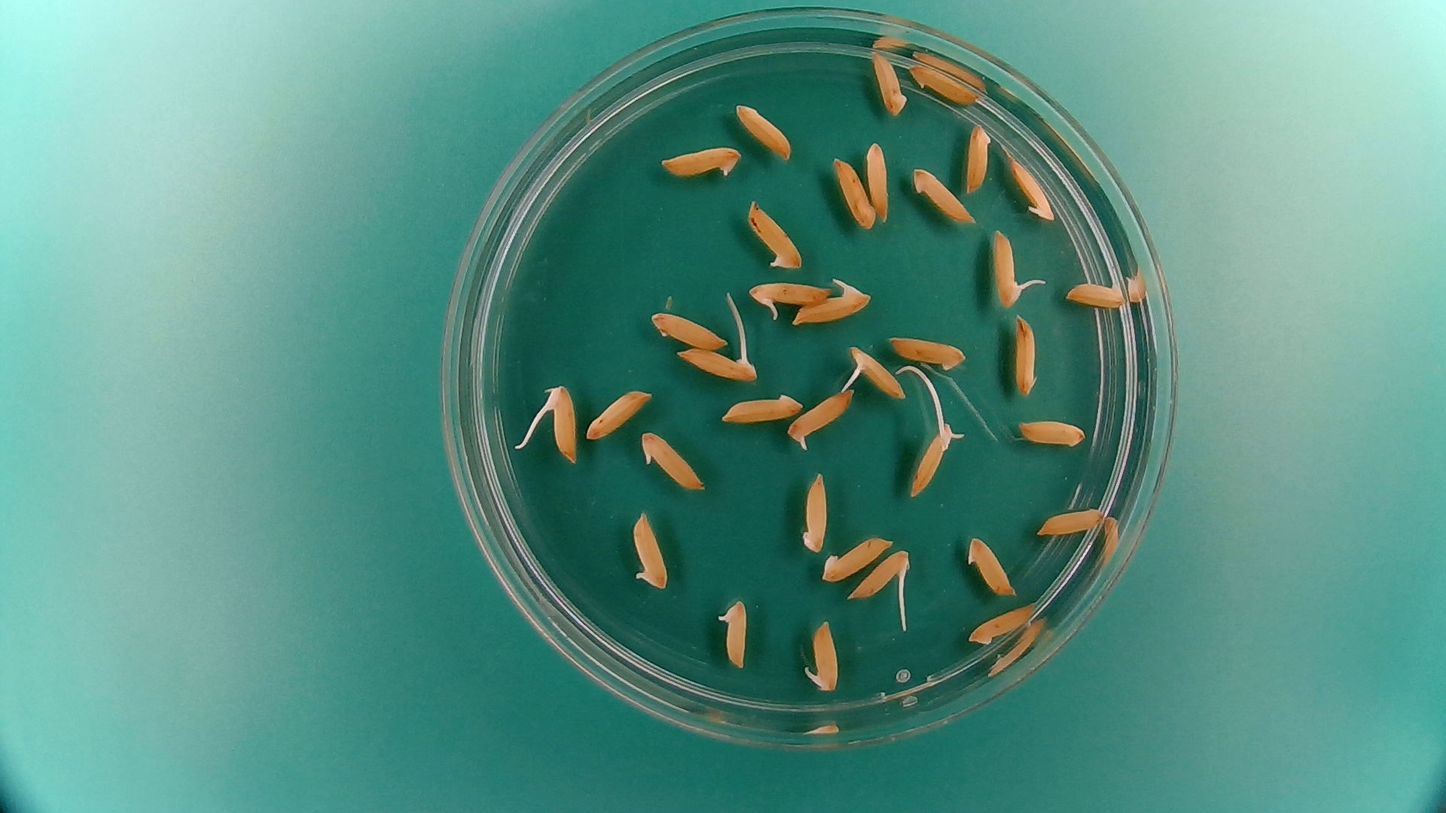no: (744, 196, 804, 273), (909, 163, 978, 227), (819, 530, 898, 583), (647, 307, 731, 352), (733, 100, 796, 160), (584, 386, 654, 440), (883, 330, 970, 373), (629, 505, 672, 589), (656, 140, 744, 181), (964, 532, 1017, 598), (831, 156, 877, 232), (906, 62, 984, 106), (964, 601, 1036, 648), (718, 387, 805, 425), (798, 468, 830, 556), (868, 50, 909, 118), (1035, 500, 1106, 538), (714, 595, 749, 671), (1015, 415, 1088, 450), (1011, 312, 1040, 399), (865, 138, 893, 226), (1063, 274, 1129, 309), (963, 120, 992, 194)
yes: (638, 428, 708, 494), (785, 388, 856, 450), (908, 419, 953, 500), (675, 343, 761, 383), (847, 546, 909, 598), (790, 286, 867, 327), (744, 276, 833, 311), (847, 342, 903, 397), (544, 382, 581, 464), (1006, 160, 1052, 221), (805, 618, 838, 695), (993, 230, 1024, 308)
